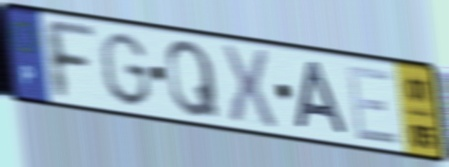A: (292, 58, 351, 139)
E: (344, 63, 403, 149)
F: (39, 14, 100, 104)
G: (96, 29, 154, 110)
Q: (163, 37, 223, 121)
X: (217, 40, 280, 130)
